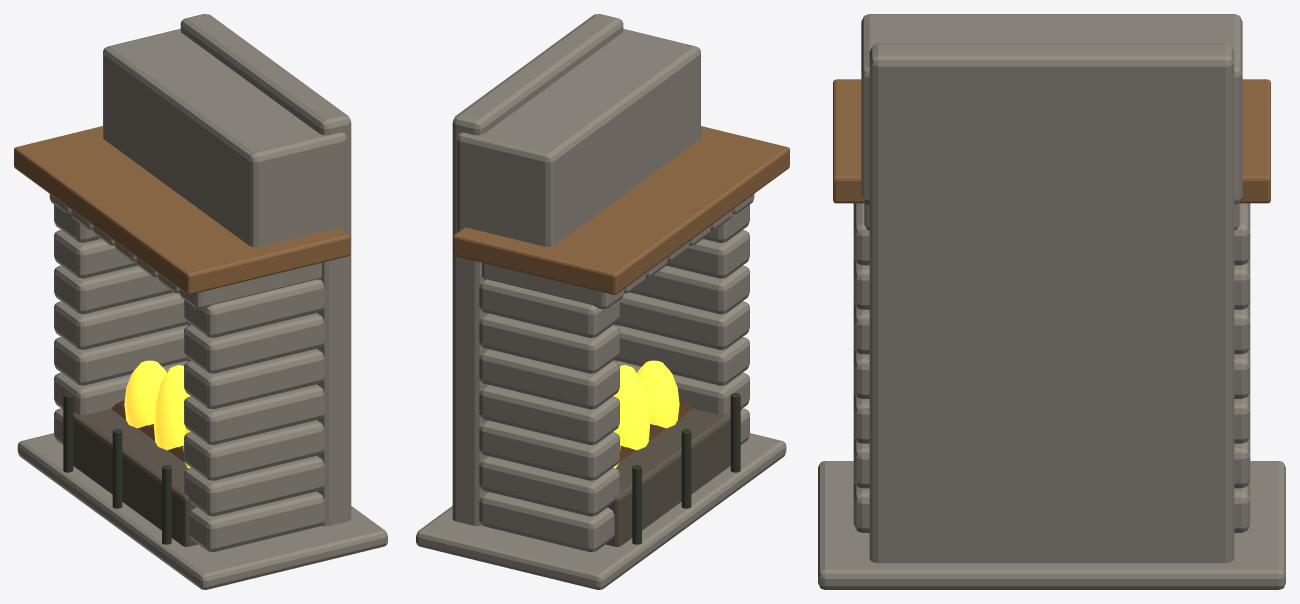
File: SM_HH_Art_Fireplace.fbx
The picture shows the model from 3 angles, left to right: view 1: azimuth 30°, elevation 25°; view 2: azimuth 150°, elevation 25°; view 3: azimuth 270°, elevation 25°; orthographic projection. The views are drawn at different scales.
Visible parts, largest first — view 1: HH_Art_Fireplace; view 2: HH_Art_Fireplace; view 3: HH_Art_Fireplace.
Part boxes in pixels (x1=…): HH_Art_Fireplace: x1=14, y1=14, x2=387, y2=589; HH_Art_Fireplace: x1=416, y1=14, x2=789, y2=589; HH_Art_Fireplace: x1=818, y1=14, x2=1285, y2=589.
Bounding box in the file's own units: 1.9 × 1.15 × 2.35.
